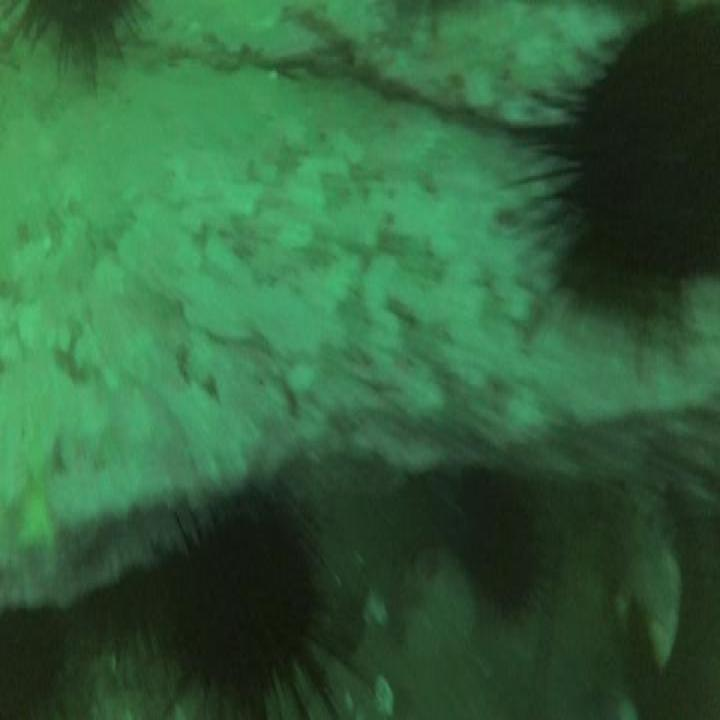echinus: (569, 0, 720, 295), (170, 510, 323, 710), (452, 475, 541, 617), (1, 606, 69, 720)
scallop: (619, 535, 685, 672)
